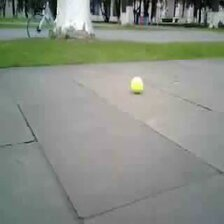tennis: (130, 76, 144, 93)
